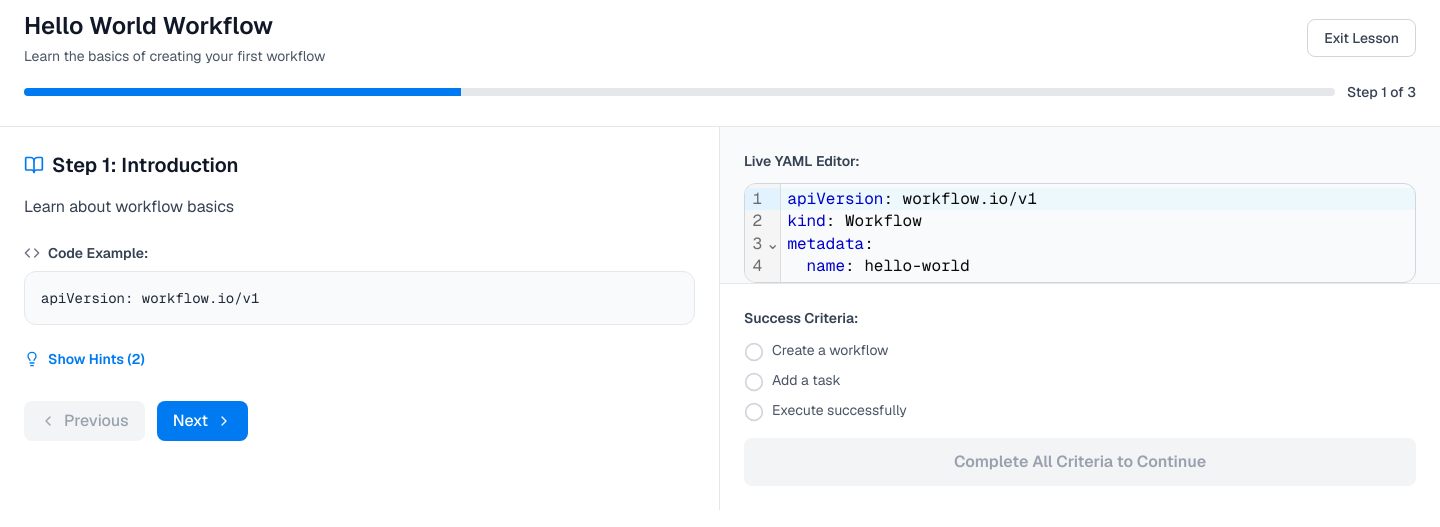
Test case: LessonViewer › Step Navigation › should navigate to next step when Next is clicked
Click the button with test id "next-step-button".
click(202, 421)  # box x1=157 y1=401 x2=248 y2=441
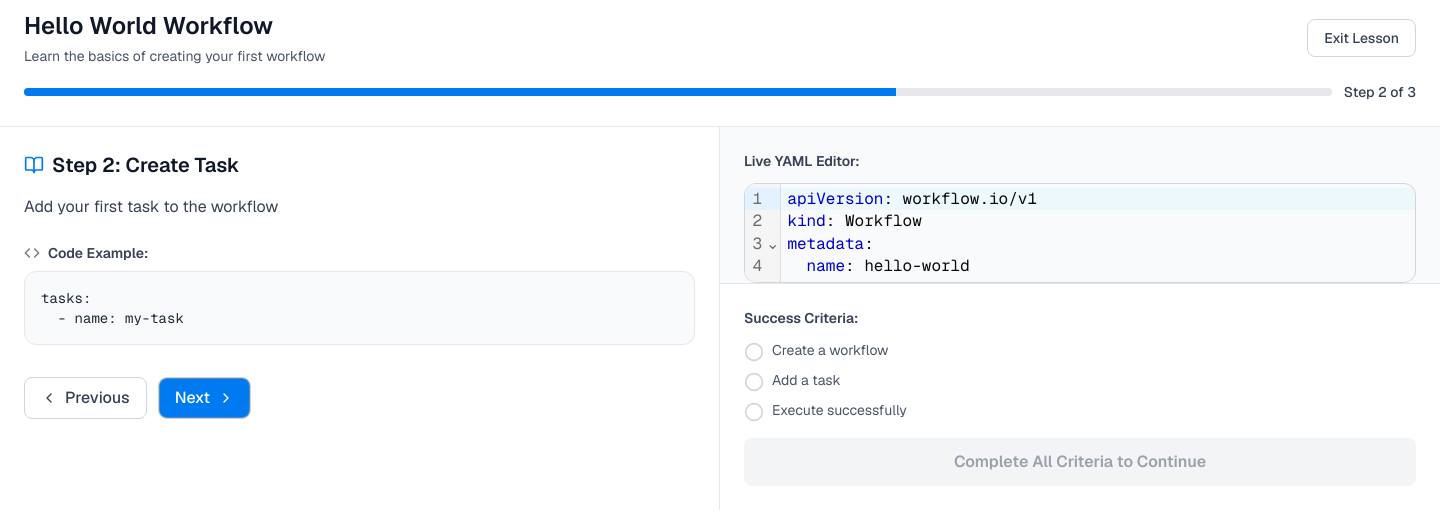
Result: the heading "Step 2: Create Task" is shown at x1=52 y1=151 x2=240 y2=179
Result: the text "Step 2 of 3" is shown at x1=1344 y1=82 x2=1416 y2=102
